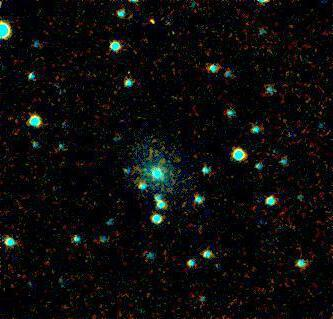star: (137, 7, 167, 37)
